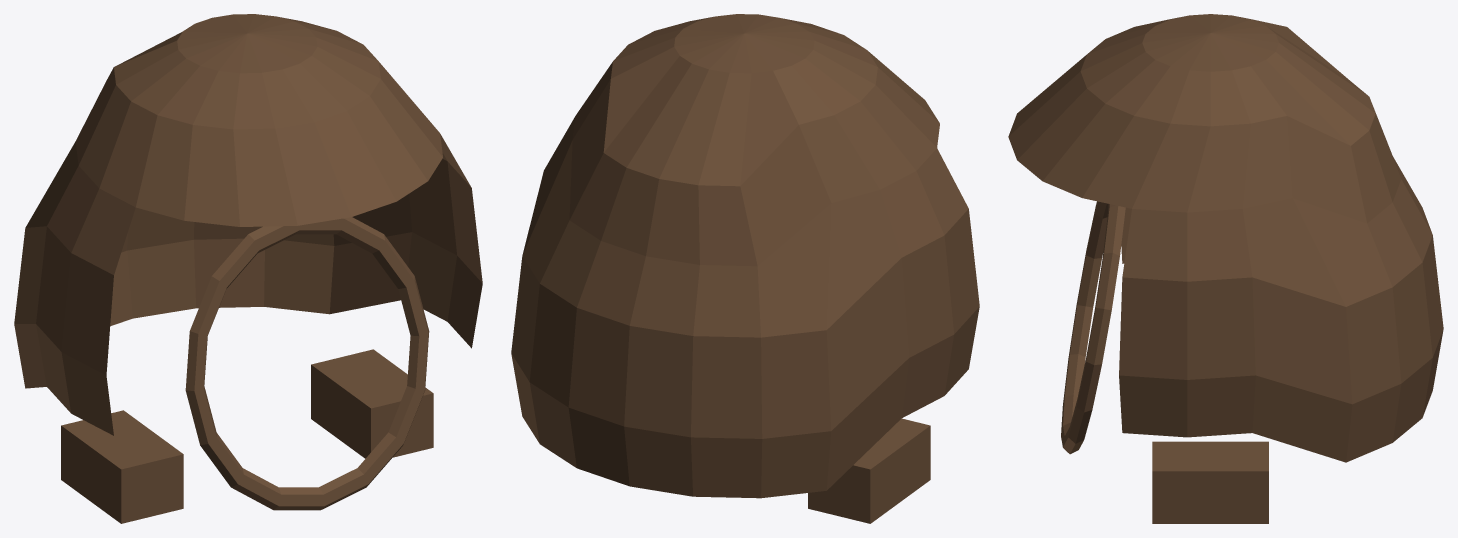
Rendered from hood.fbx.
3 views of the same model, side by side, from view 1: azimuth 30°, elevation 25°; view 2: azimuth 150°, elevation 25°; view 3: azimuth 270°, elevation 25° (orthographic). The views are drawn at different scales.
Parts seen in each view (by area): view 1: hood; view 2: hood; view 3: hood.
Part boxes in pixels (x1=…): hood: x1=14, y1=14, x2=482, y2=523; hood: x1=511, y1=14, x2=979, y2=523; hood: x1=1008, y1=14, x2=1443, y2=523.
Bounding box in the file's own units: 0.38 × 0.395 × 0.3737.
